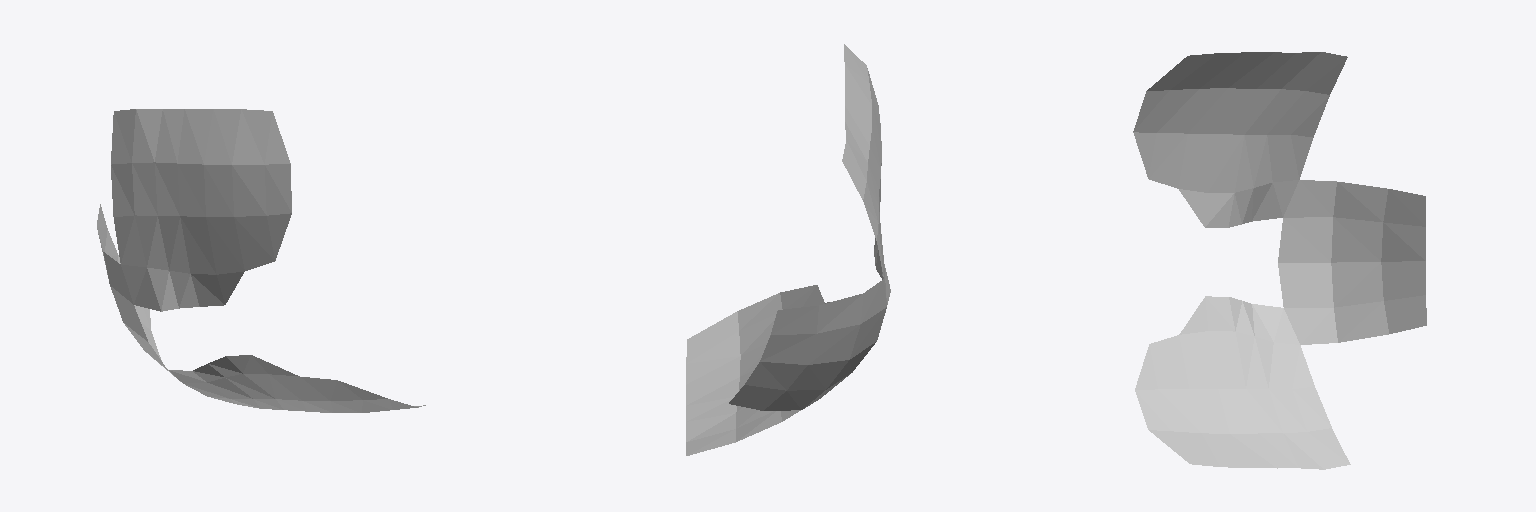
File: SylveonEyes.obj
The picture shows the model from 3 angles: view 1: azimuth 30°, elevation 25°; view 2: azimuth 150°, elevation 25°; view 3: azimuth 270°, elevation 25°; orthographic projection.
Parts seen in each view (by area): view 1: Sylveon.003; view 2: Sylveon.003; view 3: Sylveon.003.
Part boxes in pixels (x1,y1,x2,y2): Sylveon.003: (97,109,425,412); Sylveon.003: (686,44,890,455); Sylveon.003: (1133,52,1426,469).
Size of the model in its own units: 10.56 by 14.93 by 10.68.